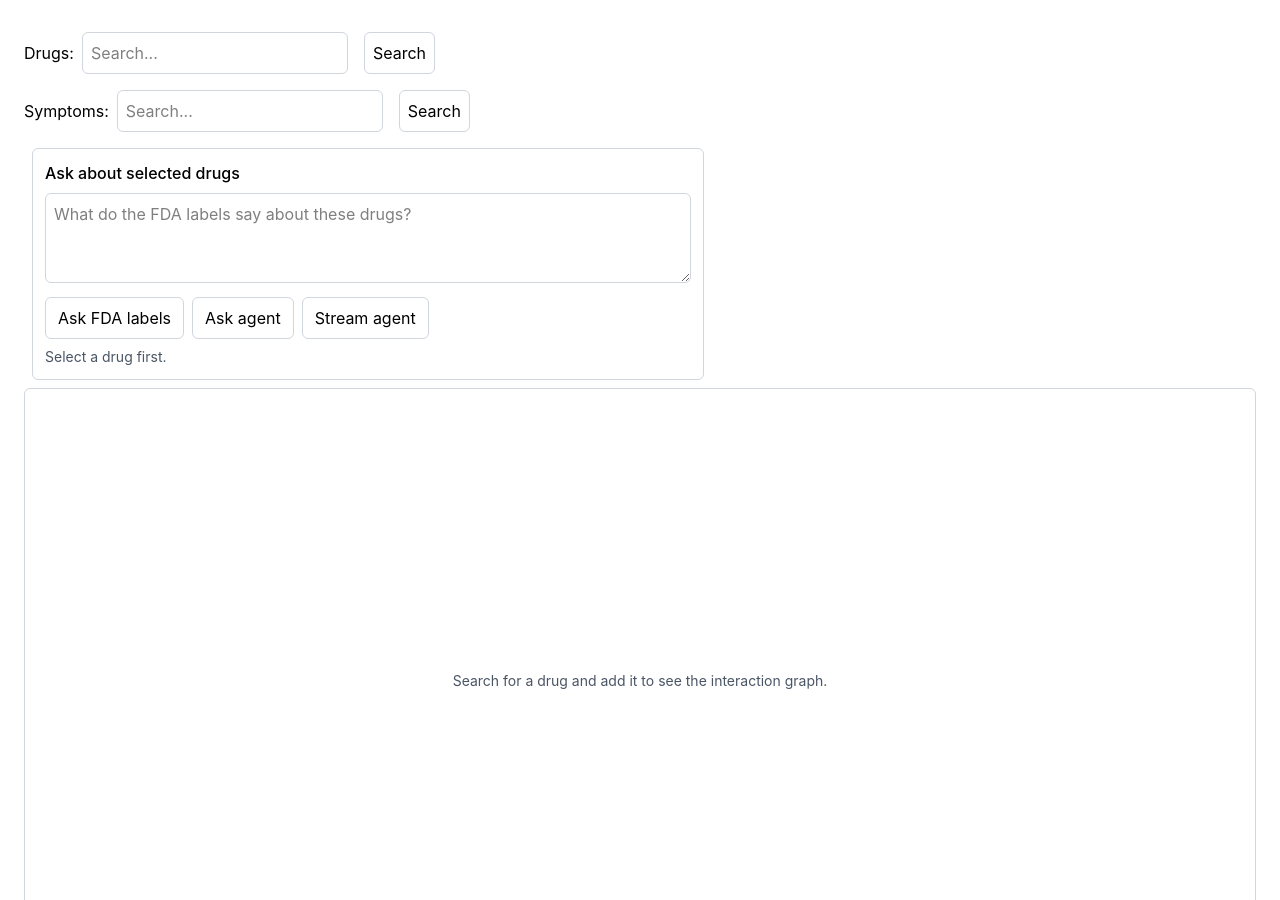
shows partial results and retries the same search instead of reusing its cache
Type "aspirin" into the field labelled "Drugs:" at (215, 53), box [82,32,348,74]
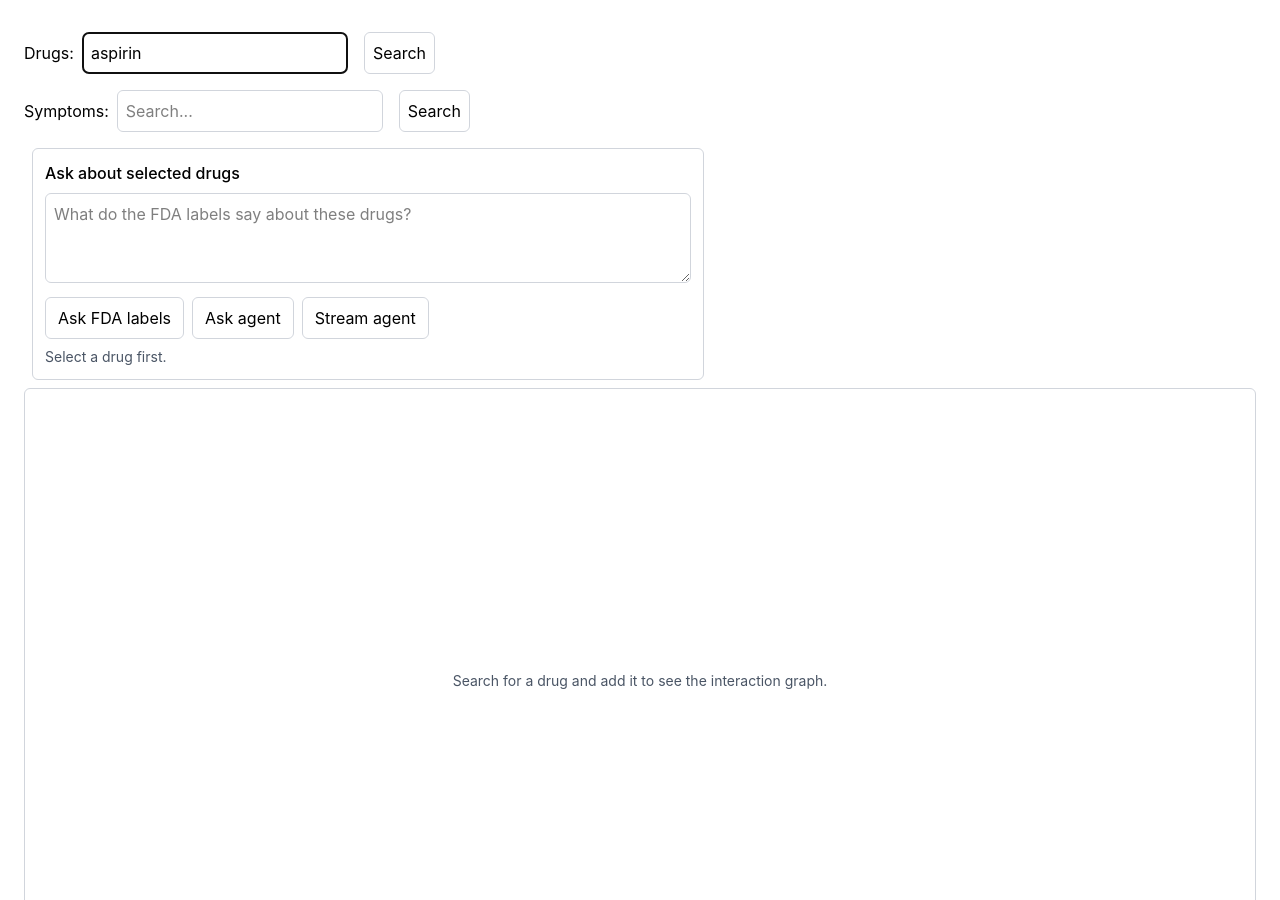
Click the button "Search" in the row of "Drugs:" at (399, 53), box [364,32,435,74]
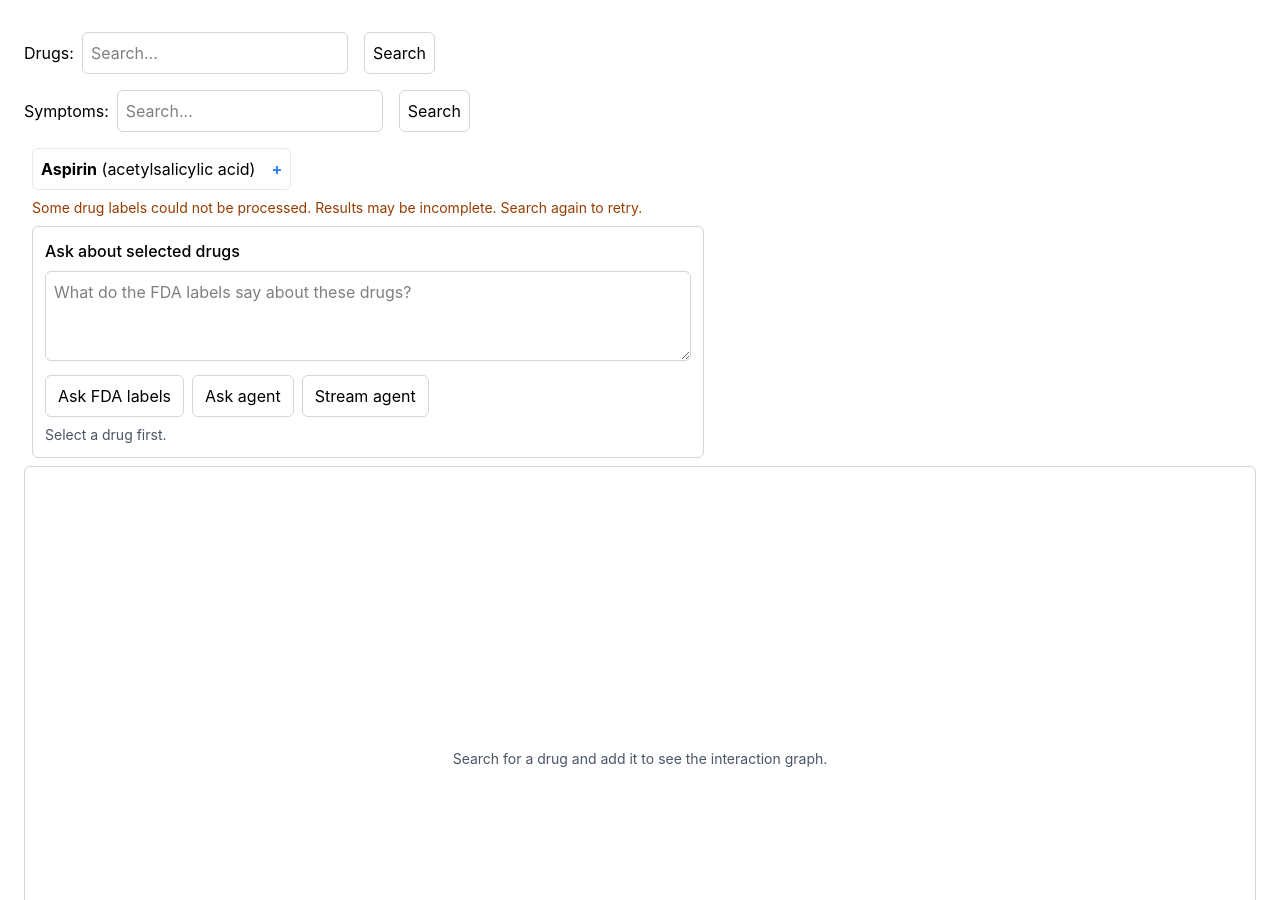
Now the button with aria-label "Add Aspirin" is shown, box [41,157,282,181]
Now the message shows "Results may be incomplete", box [32,199,642,216]
Type "aspirin" into the field labelled "Drugs:" at (215, 53), box [82,32,348,74]
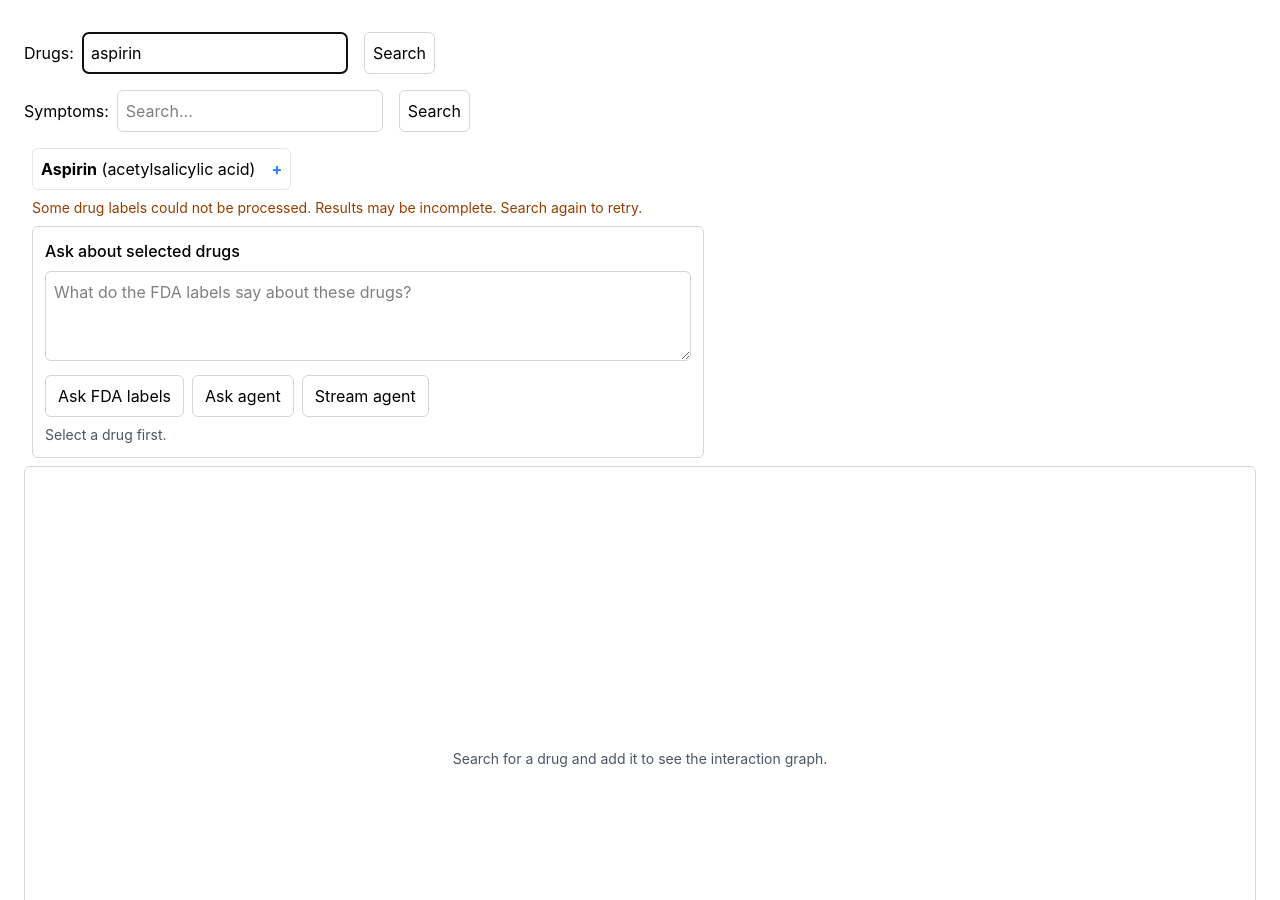
Click the button "Search" in the row of "Drugs:" at (399, 53), box [364,32,435,74]
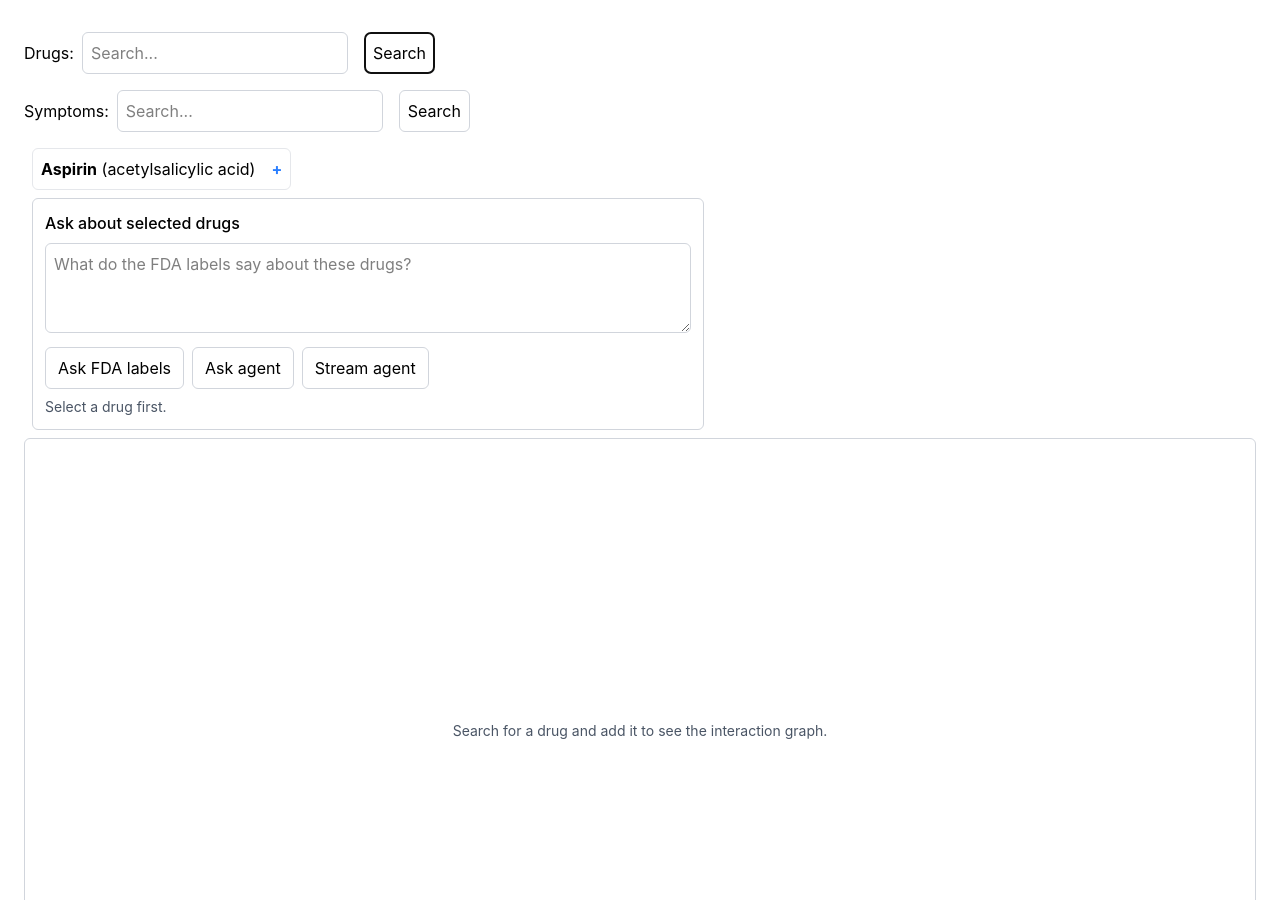
Now the message is gone
